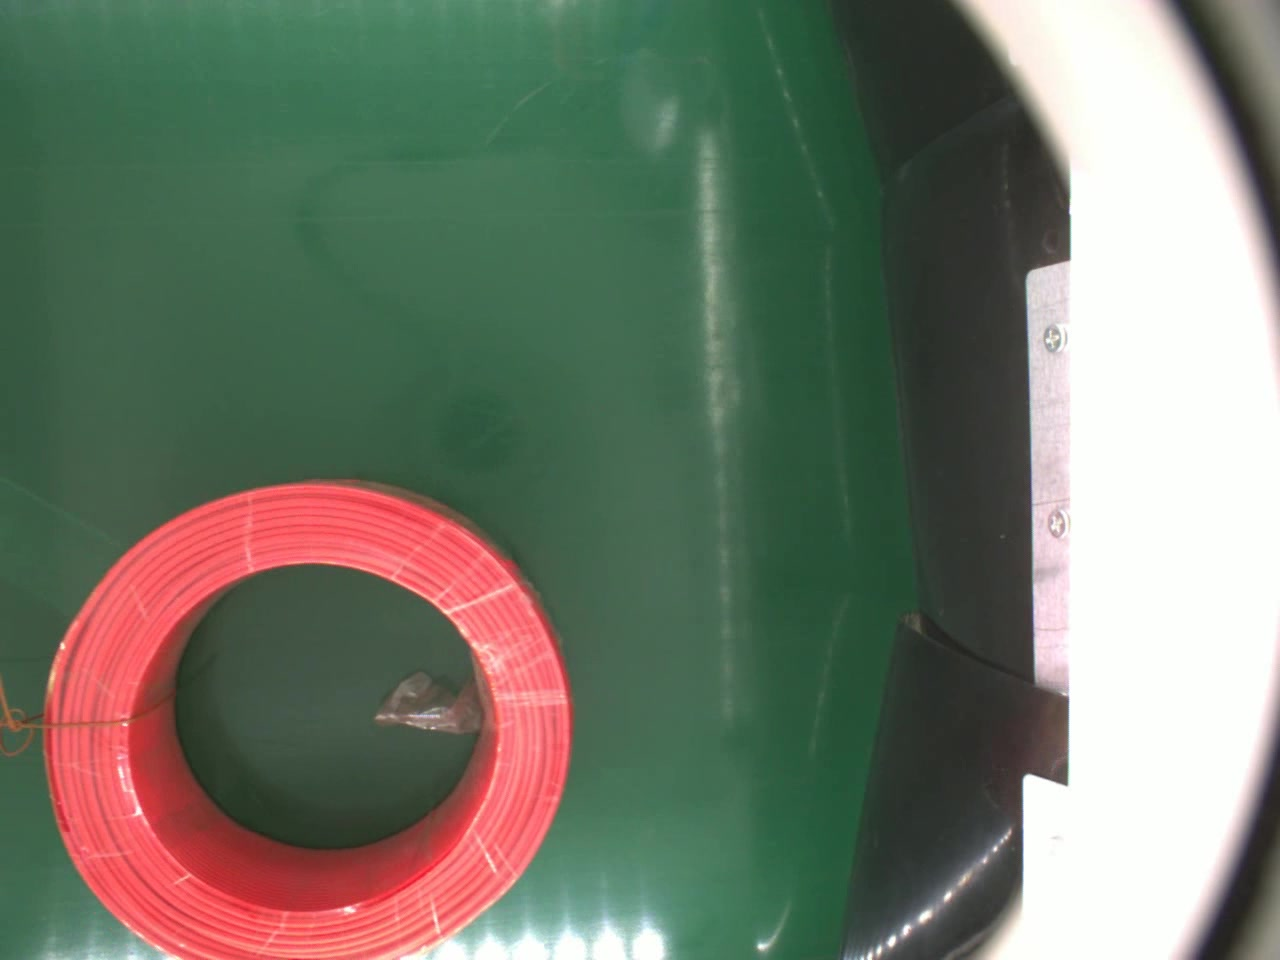red: (39, 479, 582, 960)
